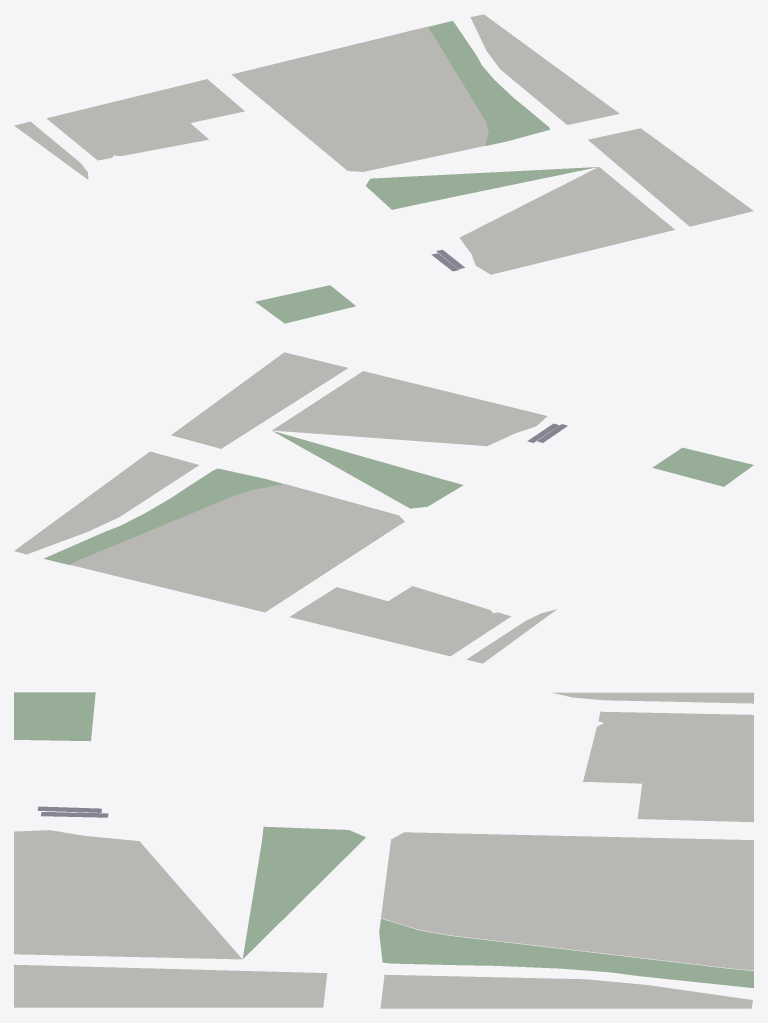
Rendered from 141_109_mid.glb.
The picture shows the model from 3 angles, top to bottom: view 1: azimuth 30°, elevation 25°; view 2: azimuth 150°, elevation 25°; view 3: azimuth 270°, elevation 25°; orthographic projection. The views are drawn at different scales.
Bounding box in the file's own units: 500 × 5.45 × 500.
